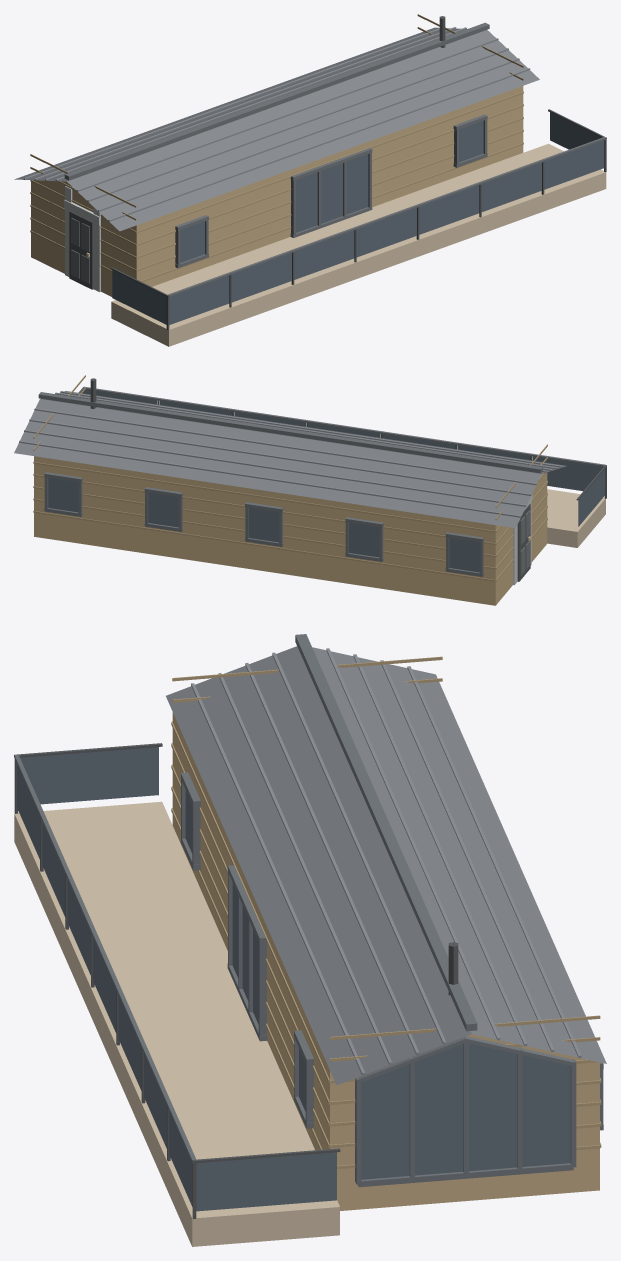
3 views of the same model, one above another, from view 1: azimuth 30°, elevation 25°; view 2: azimuth 150°, elevation 25°; view 3: azimuth 270°, elevation 25° (orthographic). The views are drawn at different scales.
Parts seen in each view (by area): view 1: slate, door_wood, larch, slate_lt, slate_dk, door_wood_p, window_glass_002, window_glass_004, window_glass_005, window_glass_006, window_glass_007, window_glass_001 (+12 smaller); view 2: door_wood, slate, slate_dk, slate_lt, door_wood_p, larch, window_glass_001, window_glass_017, window_glass_020, window_glass_016, window_glass_018, window_glass_019 (+11 smaller); view 3: slate, larch, window_glass_015, slate_dk, door_wood, slate_lt, window_glass_009, door_wood_p, window_glass_008, pipe, window_glass_003, window_glass_004 (+5 smaller).
Boxes of the visible parts, x1=… form: slate: x1=14, y1=27, x2=539, y2=231; door_wood: x1=31, y1=86, x2=523, y2=296; larch: x1=111, y1=143, x2=606, y2=346; slate_lt: x1=24, y1=27, x2=530, y2=221; slate_dk: x1=64, y1=22, x2=606, y2=296; door_wood_p: x1=30, y1=14, x2=523, y2=282; window_glass_002: x1=231, y1=253, x2=291, y2=302; window_glass_004: x1=356, y1=208, x2=416, y2=257; window_glass_005: x1=419, y1=185, x2=479, y2=234; window_glass_006: x1=481, y1=162, x2=541, y2=211; window_glass_007: x1=544, y1=140, x2=604, y2=189; window_glass_001: x1=169, y1=275, x2=229, y2=324; door_wood: x1=34, y1=456, x2=547, y2=605; slate: x1=14, y1=391, x2=566, y2=528; slate_dk: x1=38, y1=386, x2=605, y2=576; slate_lt: x1=19, y1=391, x2=562, y2=517; door_wood_p: x1=33, y1=375, x2=547, y2=581; larch: x1=547, y1=489, x2=605, y2=547; window_glass_001: x1=532, y1=456, x2=603, y2=490; window_glass_017: x1=148, y1=492, x2=178, y2=527; window_glass_020: x1=449, y1=537, x2=479, y2=572; window_glass_016: x1=48, y1=477, x2=78, y2=512; window_glass_018: x1=248, y1=507, x2=278, y2=542; window_glass_019: x1=349, y1=522, x2=379, y2=557; slate: x1=166, y1=646, x2=606, y2=1085; larch: x1=14, y1=801, x2=339, y2=1246; window_glass_015: x1=361, y1=1043, x2=570, y2=1179; slate_dk: x1=14, y1=634, x2=603, y2=1187; door_wood: x1=172, y1=712, x2=599, y2=1210; slate_lt: x1=191, y1=648, x2=581, y2=1075; window_glass_009: x1=196, y1=1152, x2=336, y2=1211; door_wood_p: x1=171, y1=656, x2=601, y2=1169; window_glass_008: x1=20, y1=747, x2=158, y2=804; pipe: x1=14, y1=743, x2=458, y2=1218; window_glass_003: x1=67, y1=880, x2=90, y2=975; window_glass_004: x1=93, y1=937, x2=116, y2=1032.
Bounding box in the file's own units: 16.27 × 4.06 × 9.46.
